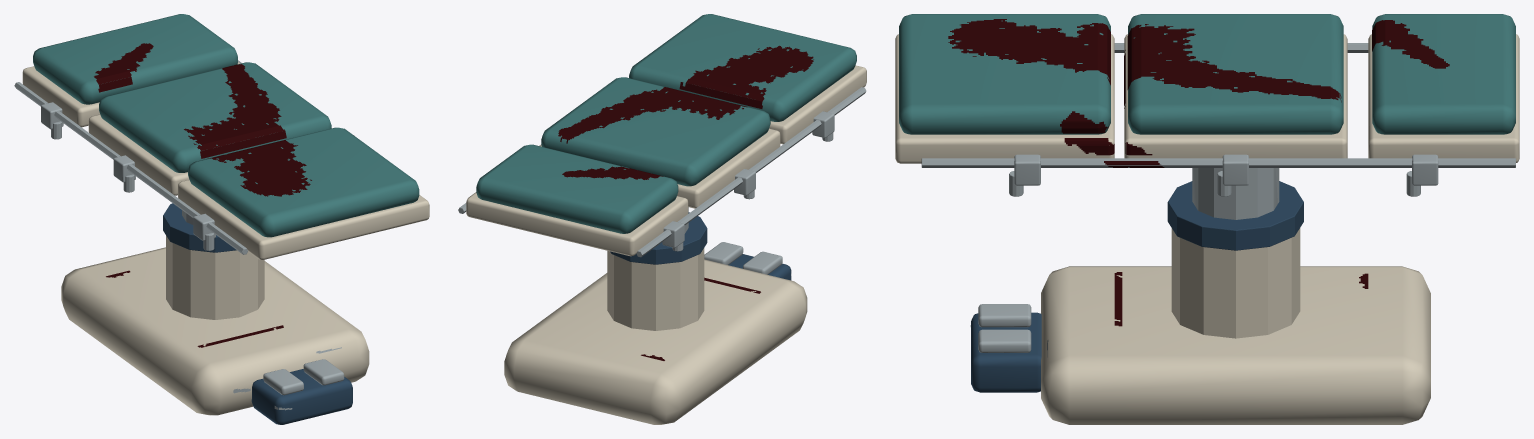
Rendered from operating_table.glb.
3 views of the same model, side by side, from view 1: azimuth 30°, elevation 25°; view 2: azimuth 150°, elevation 25°; view 3: azimuth 270°, elevation 25° (orthographic). The views are drawn at different scales.
Parts seen in each view (by area): view 1: operating_table_Outbreak_Static; view 2: operating_table_Outbreak_Static; view 3: operating_table_Outbreak_Static.
Part boxes in pixels (box(x1,y1,x2,y2)): operating_table_Outbreak_Static: box(14, 14, 429, 424); operating_table_Outbreak_Static: box(458, 14, 866, 424); operating_table_Outbreak_Static: box(895, 14, 1519, 424).
Size of the model in its own units: 0.775 by 0.9355 by 1.65.
